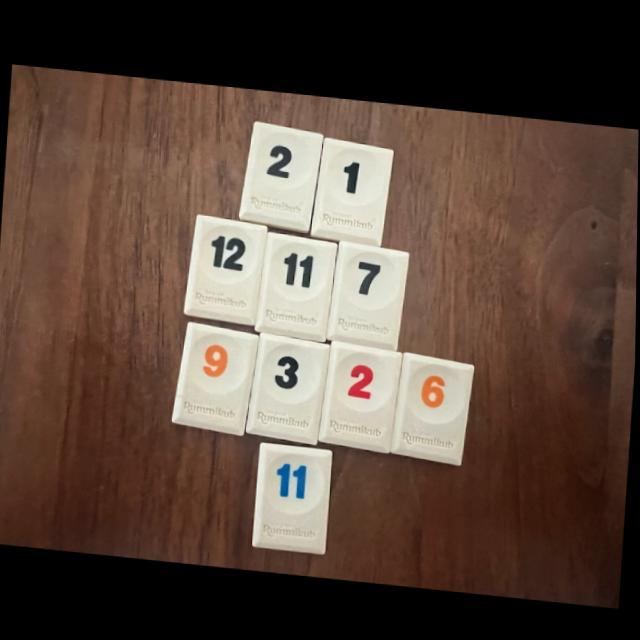black_1: (313, 135, 393, 243)
black_11: (258, 229, 338, 338)
black_12: (186, 212, 268, 322)
black_2: (240, 119, 324, 229)
black_3: (248, 330, 331, 441)
black_7: (327, 238, 409, 347)
blue_11: (254, 441, 334, 551)
orange_6: (394, 348, 475, 461)
orange_9: (173, 320, 260, 433)
red_2: (320, 338, 403, 449)
